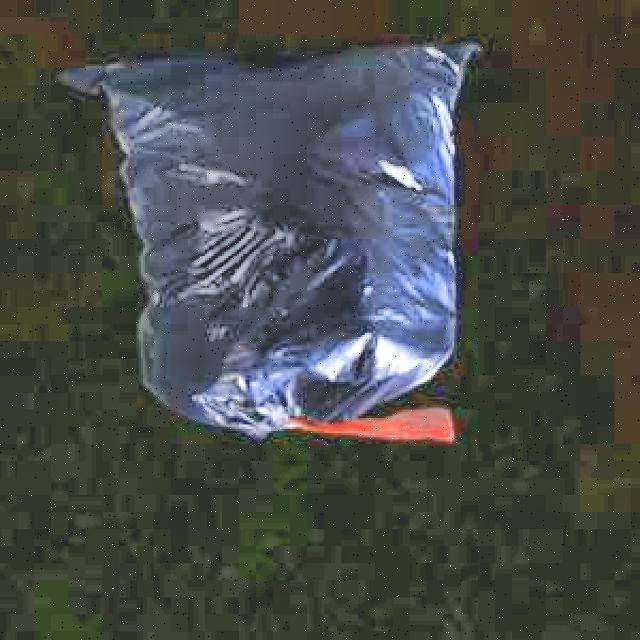Trashbag: (68, 19, 490, 442)
